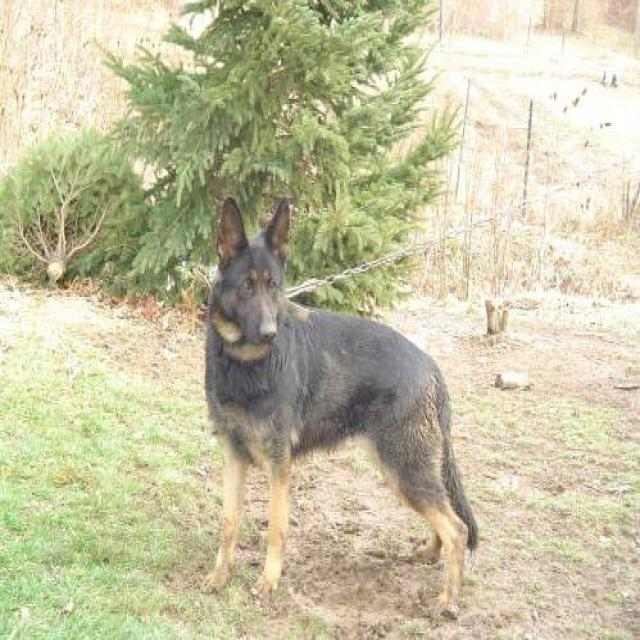dog: (200, 195, 480, 620)
